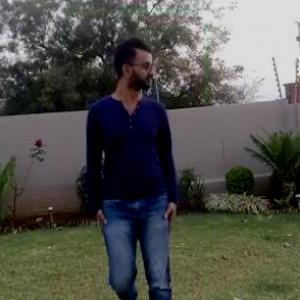follow: (76, 24, 191, 296)
